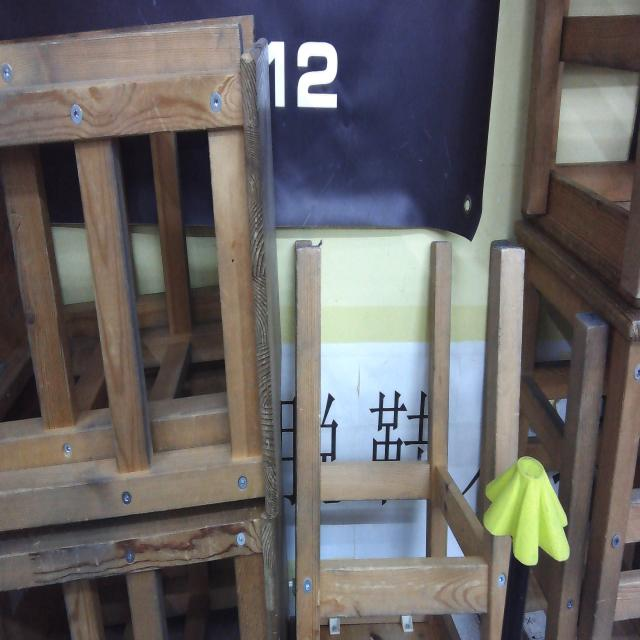Yellow-Stake-Head: (483, 456, 570, 566)
